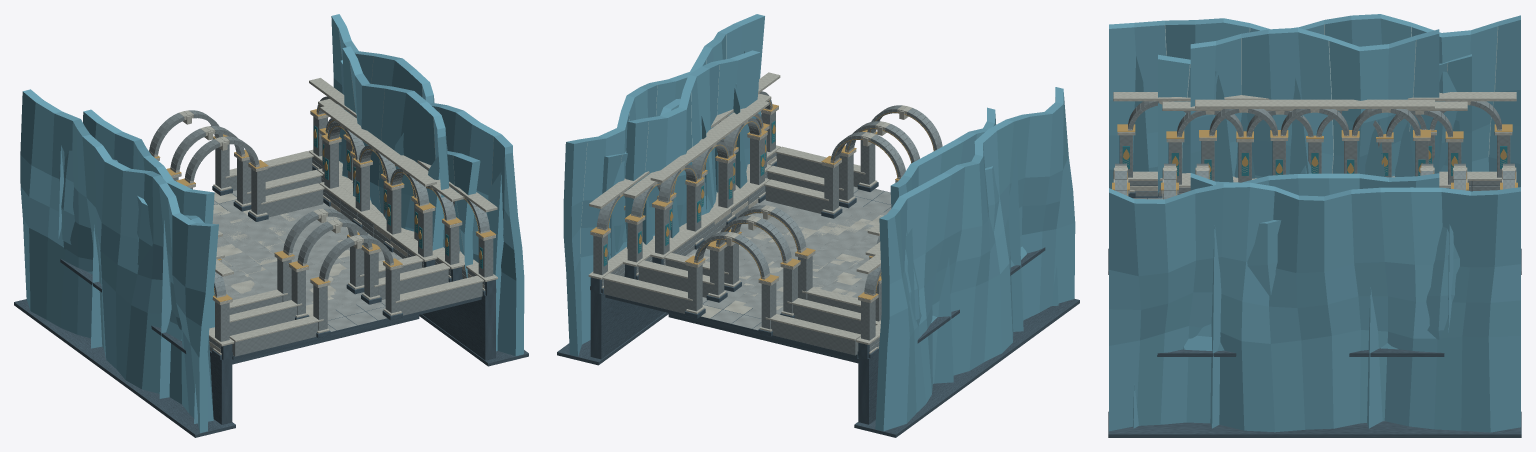
Rendered from water-courts-v01.glb.
3 views of the same model, side by side, from view 1: azimuth 30°, elevation 25°; view 2: azimuth 150°, elevation 25°; view 3: azimuth 270°, elevation 25° (orthographic). The views are drawn at different scales.
Visible parts, largest first — view 1: Folded solid glacier wall.010, Folded solid glacier wall.011, Carved water arcade.708, Carved water arcade.707, Carved water arcade.705, Carved flowing wave.123, Fitted limestone flagstone.483, Deep supported side pier foundation.002, Carved flowing wave.122, Folded solid glacier wall.008, Carved flowing wave.120, Supported broad glacier footing.010 (+10 smaller); view 2: Folded solid glacier wall.010, Folded solid glacier wall.011, Carved water arcade.708, Carved water arcade.707, Carved water arcade.705, Carved flowing wave.123, Fitted limestone flagstone.483, Carved flowing wave.122, Deep supported side pier foundation.002, Carved flowing wave.120, Supported broad glacier footing.010, Fitted limestone flagstone.487 (+10 smaller); view 3: Folded solid glacier wall.010, Folded solid glacier wall.011, Folded solid glacier wall.008, Supported broad glacier footing.010, Carved water arcade.705, Carved water arcade.708, Carved flowing wave.123, Carved flowing wave.122, Carved water arcade.707, Carved flowing wave.120, Supported broad glacier footing.008, Capital bronze lip.056 (+3 smaller).
Part boxes in pixels (box(x1,y1,x2,y2)): Folded solid glacier wall.010: box(20, 14, 524, 433); Folded solid glacier wall.011: box(83, 46, 459, 252); Carved water arcade.708: box(185, 122, 432, 314); Carved water arcade.707: box(149, 96, 493, 356); Carved water arcade.705: box(170, 118, 459, 335); Carved flowing wave.123: box(184, 104, 437, 308); Fitted limestone flagstone.483: box(212, 202, 396, 311); Deep supported side pier foundation.002: box(210, 157, 496, 424); Carved flowing wave.122: box(149, 78, 497, 354); Folded solid glacier wall.008: box(59, 60, 480, 340); Carved flowing wave.120: box(170, 99, 463, 322); Supported broad glacier footing.010: box(14, 299, 528, 437); Folded solid glacier wall.010: box(563, 14, 1075, 431); Folded solid glacier wall.011: box(625, 50, 996, 247); Carved water arcade.708: box(655, 118, 905, 312); Carved water arcade.707: box(593, 91, 942, 355); Carved water arcade.705: box(627, 113, 919, 334); Carved flowing wave.123: box(650, 99, 902, 306); Fitted limestone flagstone.483: box(685, 199, 885, 311); Carved flowing wave.122: box(588, 72, 935, 353); Deep supported side pier foundation.002: box(590, 153, 878, 424); Carved flowing wave.120: box(623, 93, 890, 325); Supported broad glacier footing.010: box(557, 299, 1079, 437); Fitted limestone flagstone.487: box(702, 186, 891, 336); Folded solid glacier wall.010: box(1109, 14, 1520, 432); Folded solid glacier wall.011: box(1190, 28, 1439, 196); Folded solid glacier wall.008: box(1158, 54, 1471, 351); Supported broad glacier footing.010: box(1108, 248, 1521, 437); Carved water arcade.705: box(1163, 111, 1465, 199); Carved water arcade.708: box(1196, 109, 1433, 180); Carved flowing wave.123: box(1195, 99, 1434, 178); Carved flowing wave.122: box(1113, 92, 1516, 195); Carved water arcade.707: box(1115, 101, 1514, 196); Carved flowing wave.120: box(1161, 101, 1468, 198); Supported broad glacier footing.008: box(1157, 197, 1444, 356); Capital bronze lip.056: box(1161, 131, 1468, 195).
Bounding box in the file's own units: 26.9 × 16.43 × 25.3.
Materials: 8 (4 with a texture image).
